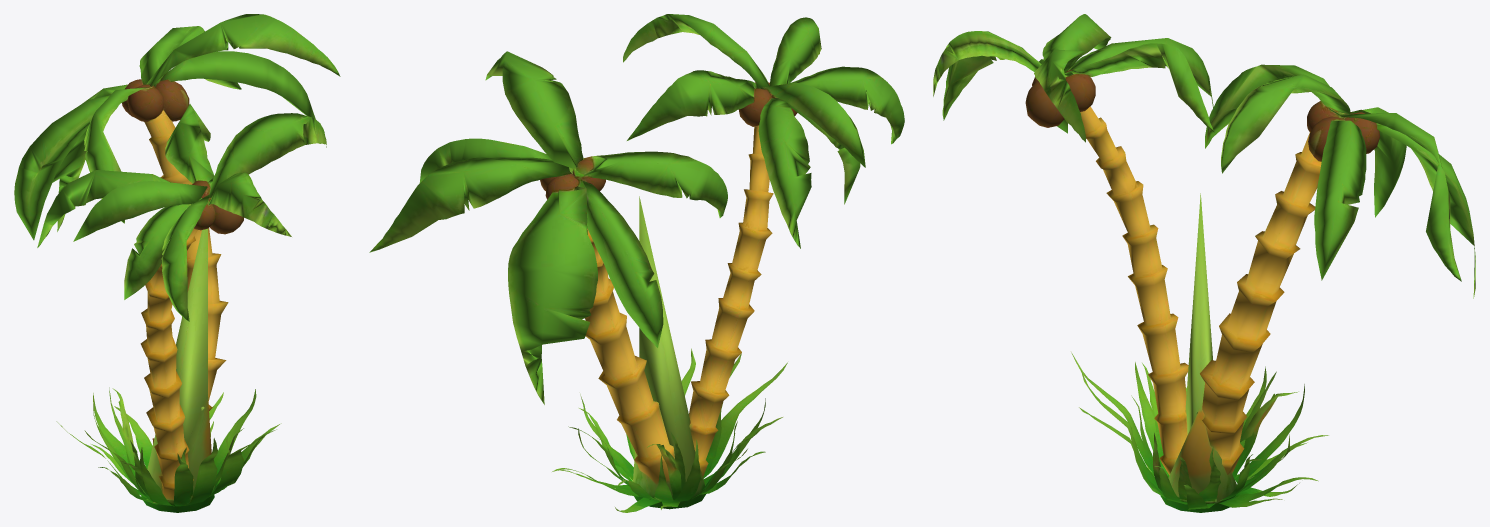
File: palm3.glb
The picture shows the model from 3 angles, left to right: view 1: azimuth 30°, elevation 25°; view 2: azimuth 150°, elevation 25°; view 3: azimuth 270°, elevation 25°; orthographic projection. The views are drawn at different scales.
Parts seen in each view (by area): view 1: tripo_node_533c4496-0d0d-4242-aef3-0533a38ab51f; view 2: tripo_node_533c4496-0d0d-4242-aef3-0533a38ab51f; view 3: tripo_node_533c4496-0d0d-4242-aef3-0533a38ab51f.
Boxes of the visible parts, bbox=[...] form: tripo_node_533c4496-0d0d-4242-aef3-0533a38ab51f: bbox=[14, 14, 340, 512]; tripo_node_533c4496-0d0d-4242-aef3-0533a38ab51f: bbox=[369, 14, 904, 512]; tripo_node_533c4496-0d0d-4242-aef3-0533a38ab51f: bbox=[933, 14, 1475, 512].
Size of the model in its own units: 0.8145 by 0.9707 by 0.998.
1 material, 1 textured.
